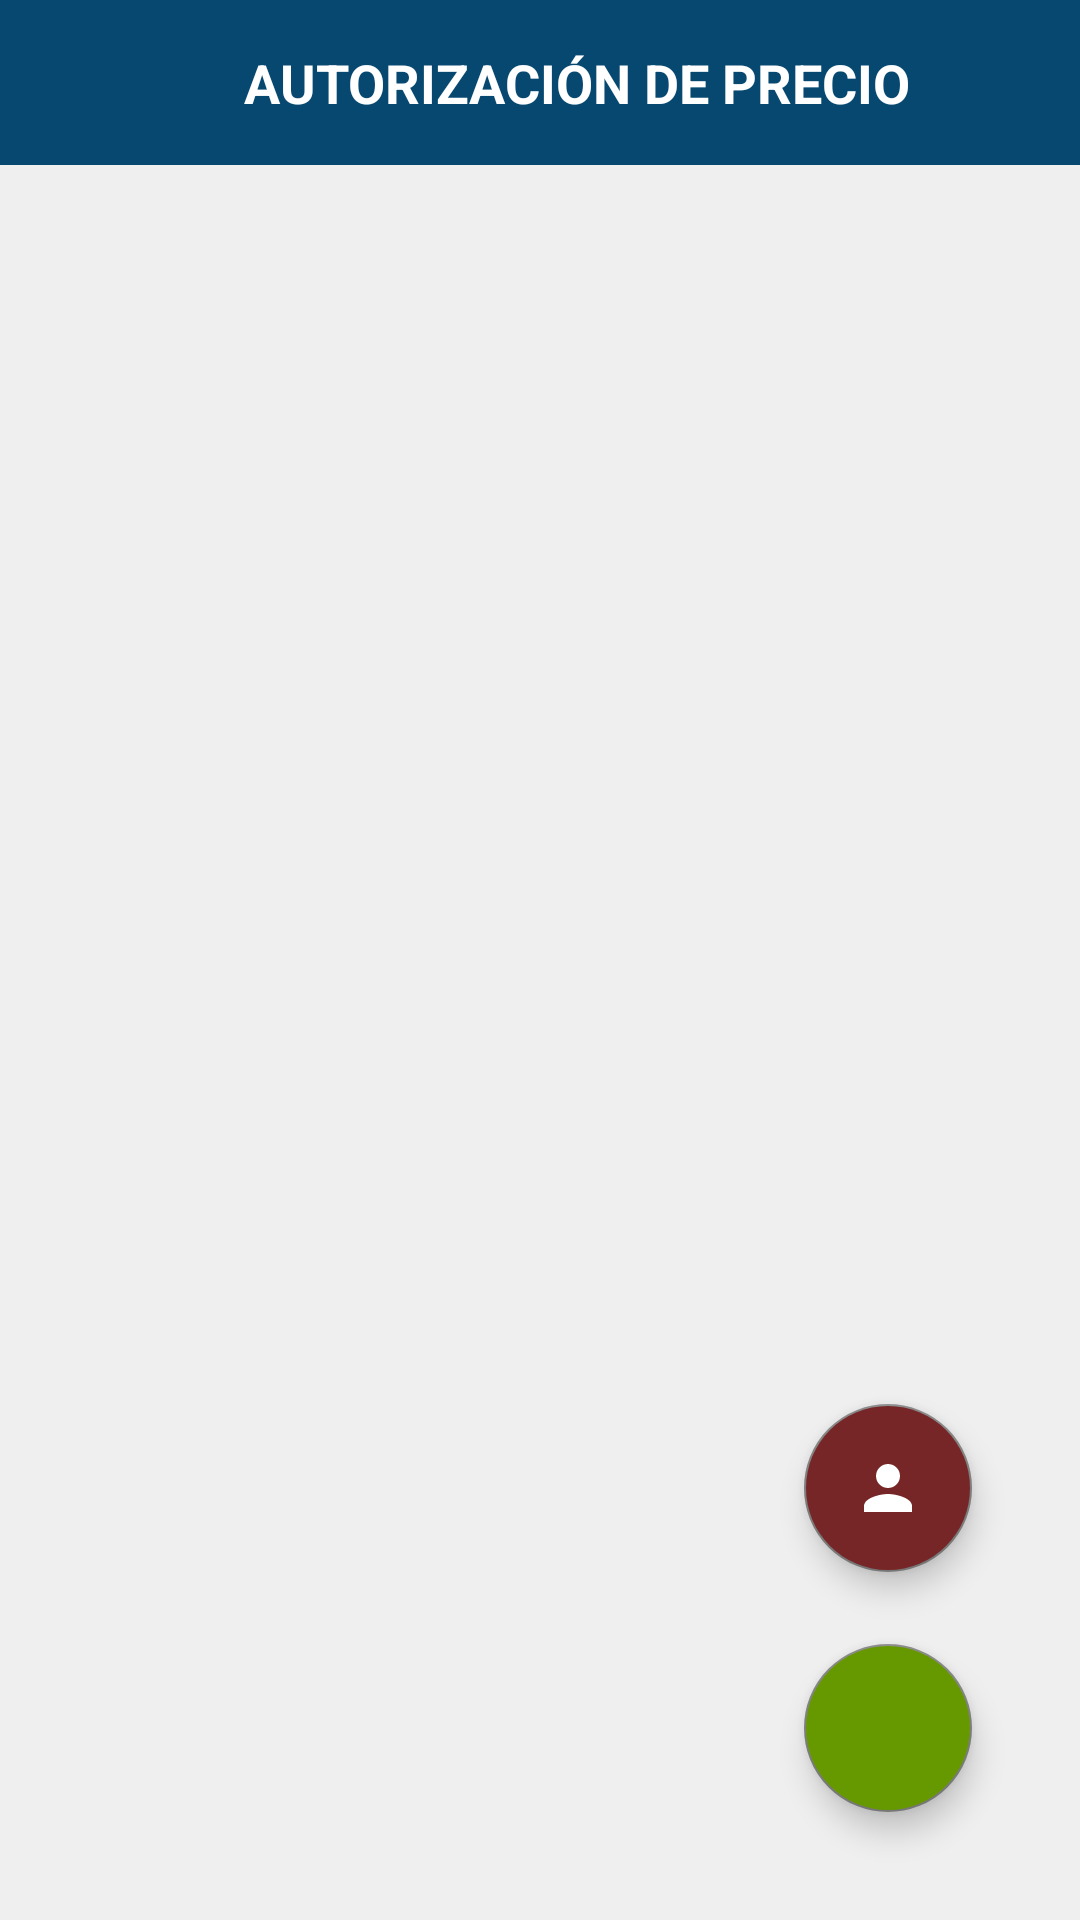

Where to tap for icons on this 1080×1920 app screen, as [x,y]:
person: [888,1488]
